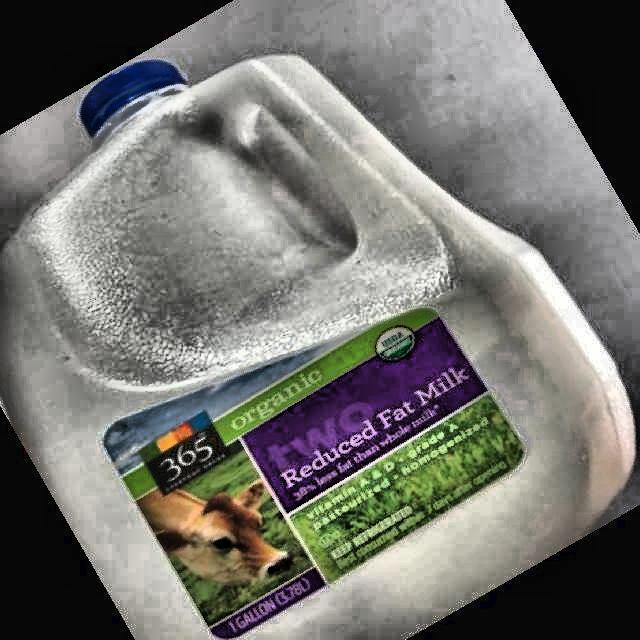plastic: (0, 58, 636, 639)
